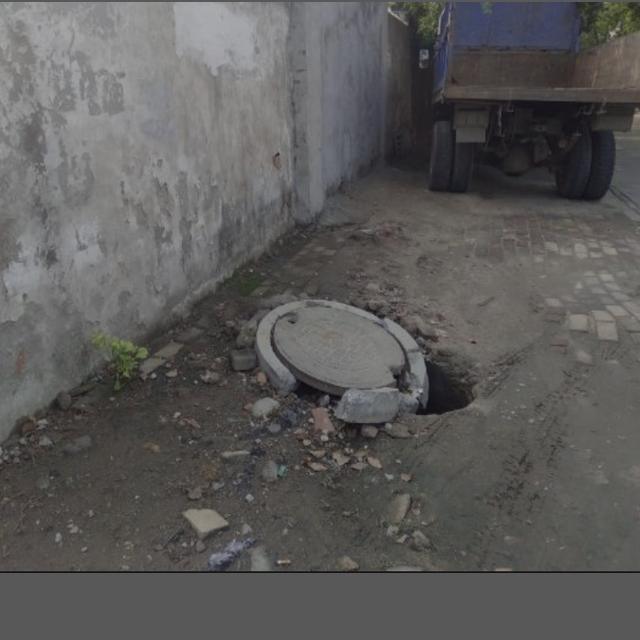circle: (252, 297, 459, 426)
